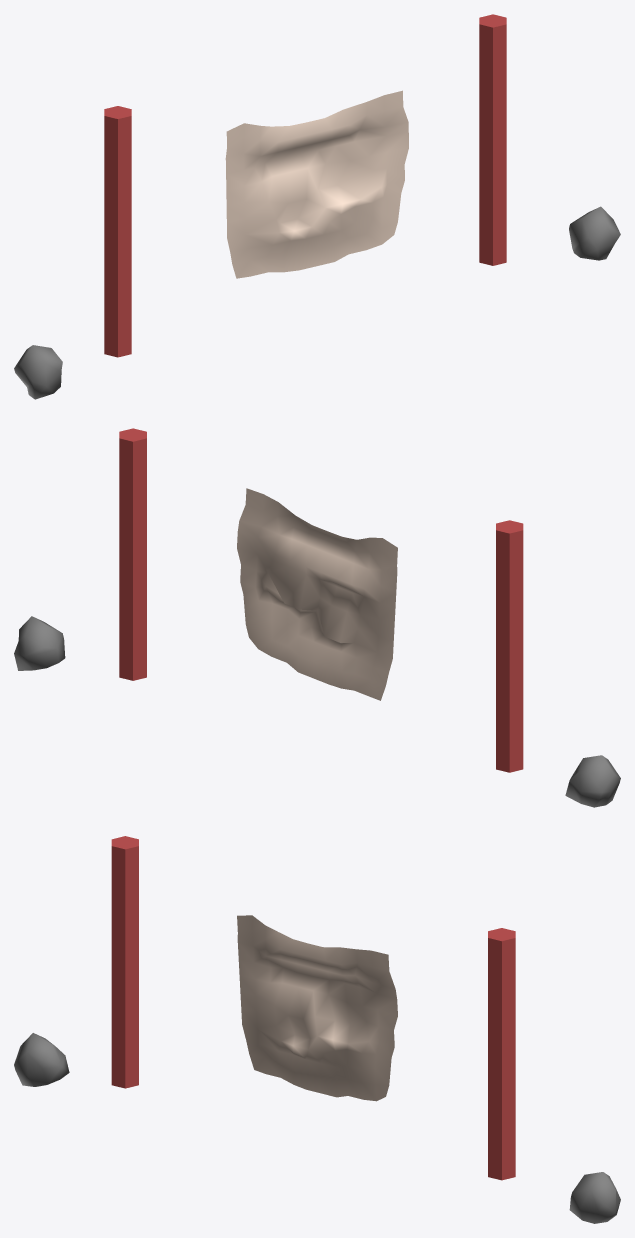
The model's file is finalLine.dae.
The picture shows the model from 3 angles, top to bottom: view 1: azimuth 30°, elevation 25°; view 2: azimuth 150°, elevation 25°; view 3: azimuth 330°, elevation 25°; orthographic projection.
Parts seen in each view (by area): view 1: pCube142; view 2: pCube142; view 3: pCube142.
Part boxes in pixels (x1,y1,x2,y2): pCube142: [14, 14, 620, 399]; pCube142: [14, 428, 620, 807]; pCube142: [14, 836, 620, 1223].
Bounding box in the file's own units: 1648 × 683 × 111.
3 materials, 2 textured.
